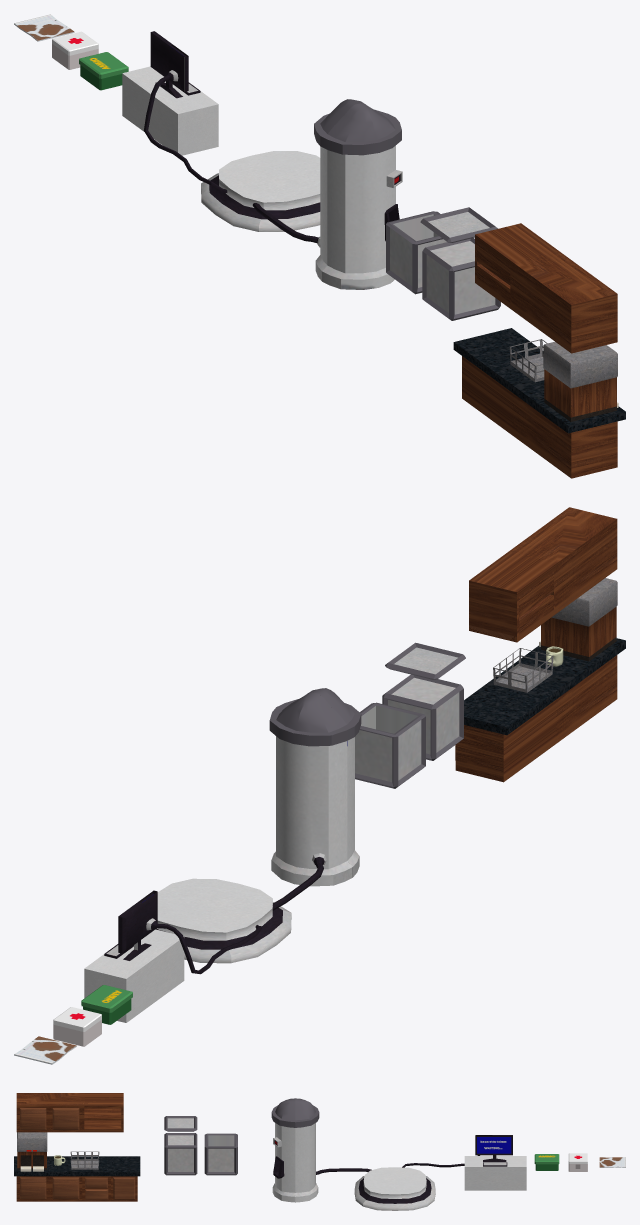
The model's file is Laboratory_Props1.fbx.
3 views of the same model, one above another, from view 1: azimuth 30°, elevation 25°; view 2: azimuth 150°, elevation 25°; view 3: azimuth 270°, elevation 25° (orthographic). The views are drawn at different scales.
Parts seen in each view (by area): view 1: Machine, Armario_Up, Armario_Down, Computer, Machine_Core, Coffe_Machine, Box, Open_Box, Box_Cover, Ammo, Cure, Paper (+1 smaller); view 2: Machine, Armario_Down, Armario_Up, Machine_Core, Computer, Open_Box, Coffe_Machine, Box, Box_Cover, Cure, Cesta, Ammo (+1 smaller); view 3: Armario_Down, Machine, Armario_Up, Computer, Machine_Core, Box, Open_Box, Coffe_Machine, Box_Cover, Cesta, Ammo, Cure (+1 smaller).
Part boxes in pixels (box(x1,y1,x2,y2)): Machine: box(252, 99, 402, 289); Armario_Up: box(475, 223, 617, 353); Armario_Down: box(453, 328, 625, 478); Computer: box(122, 31, 227, 192); Machine_Core: box(201, 151, 320, 231); Coffe_Machine: box(543, 341, 618, 421); Box: box(422, 238, 500, 320); Open_Box: box(386, 211, 446, 294); Box_Cover: box(420, 207, 497, 242); Ammo: box(79, 52, 128, 90); Cure: box(52, 31, 98, 69); Paper: box(14, 14, 74, 41); Machine: box(269, 688, 361, 910); Armario_Down: box(455, 638, 625, 782); Armario_Up: box(469, 507, 617, 642); Machine_Core: box(155, 878, 291, 963); Computer: box(84, 890, 261, 1022); Open_Box: box(355, 702, 425, 788); Coffe_Machine: box(539, 578, 617, 661); Box: box(382, 674, 463, 760); Box_Cover: box(385, 642, 465, 679); Cure: box(53, 1007, 101, 1046); Cesta: box(493, 648, 553, 692); Ammo: box(81, 985, 132, 1024); Armario_Down: box(14, 1156, 140, 1201); Machine: box(271, 1098, 371, 1202); Armario_Up: box(16, 1093, 123, 1132); Computer: box(402, 1135, 526, 1190); Machine_Core: box(354, 1167, 435, 1210); Box: box(164, 1133, 197, 1175); Open_Box: box(204, 1133, 237, 1175); Coffe_Machine: box(17, 1132, 47, 1171); Box_Cover: box(164, 1116, 197, 1131); Cesta: box(70, 1151, 99, 1169); Ammo: box(534, 1154, 559, 1170); Cure: box(568, 1153, 587, 1171).
Bounding box in the file's own units: 560 × 748 × 4145.
